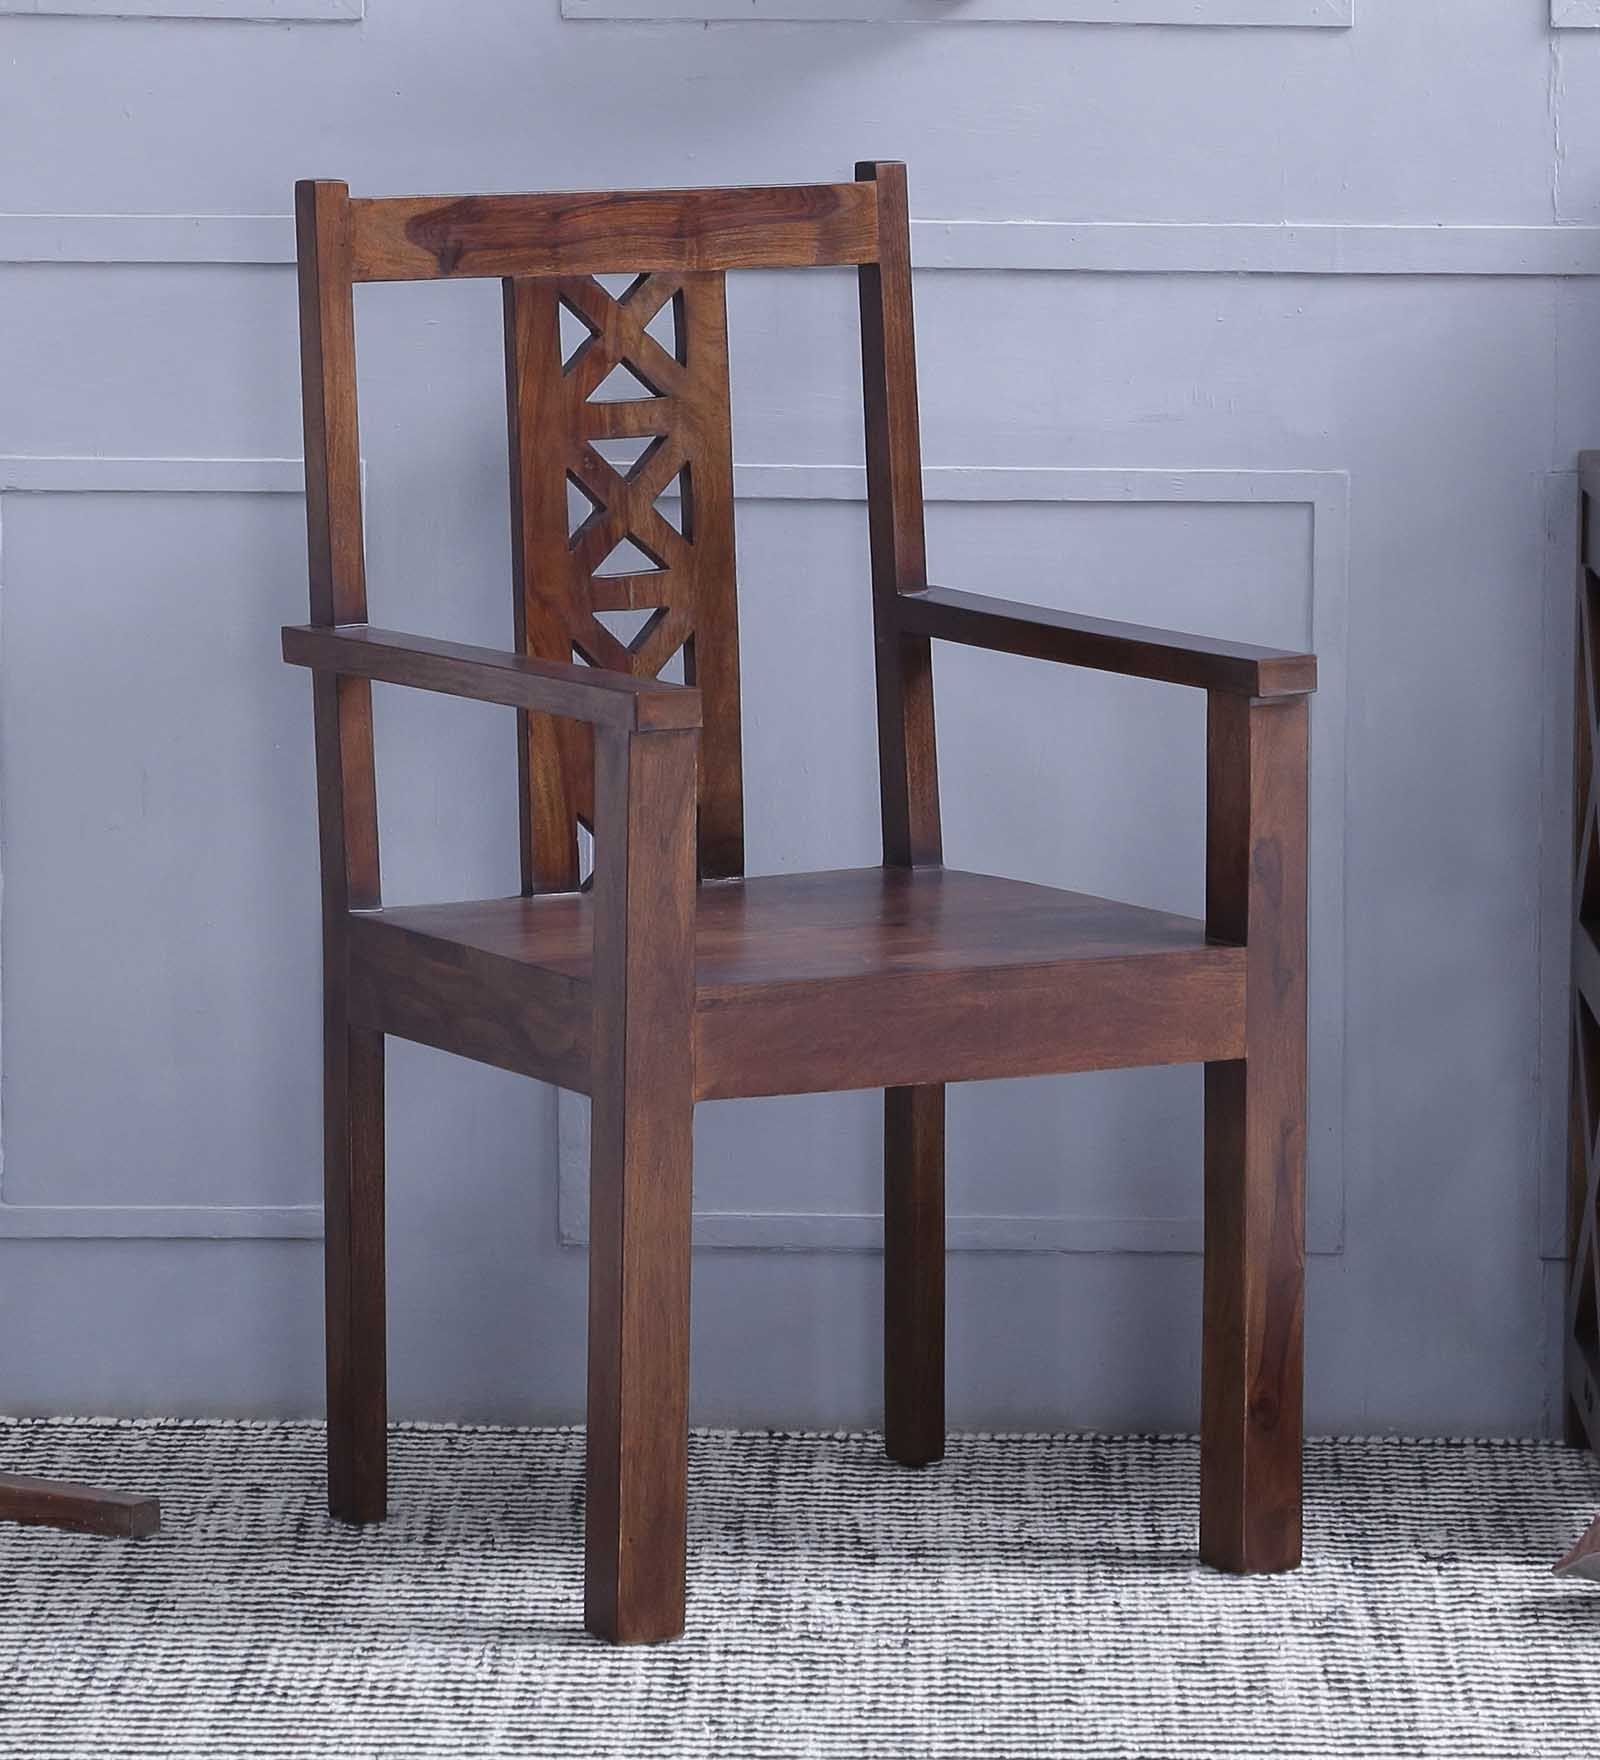Kryss Arm Chair in Provincial Teak Finish by Woodsworth: (208, 133, 1390, 1666)
